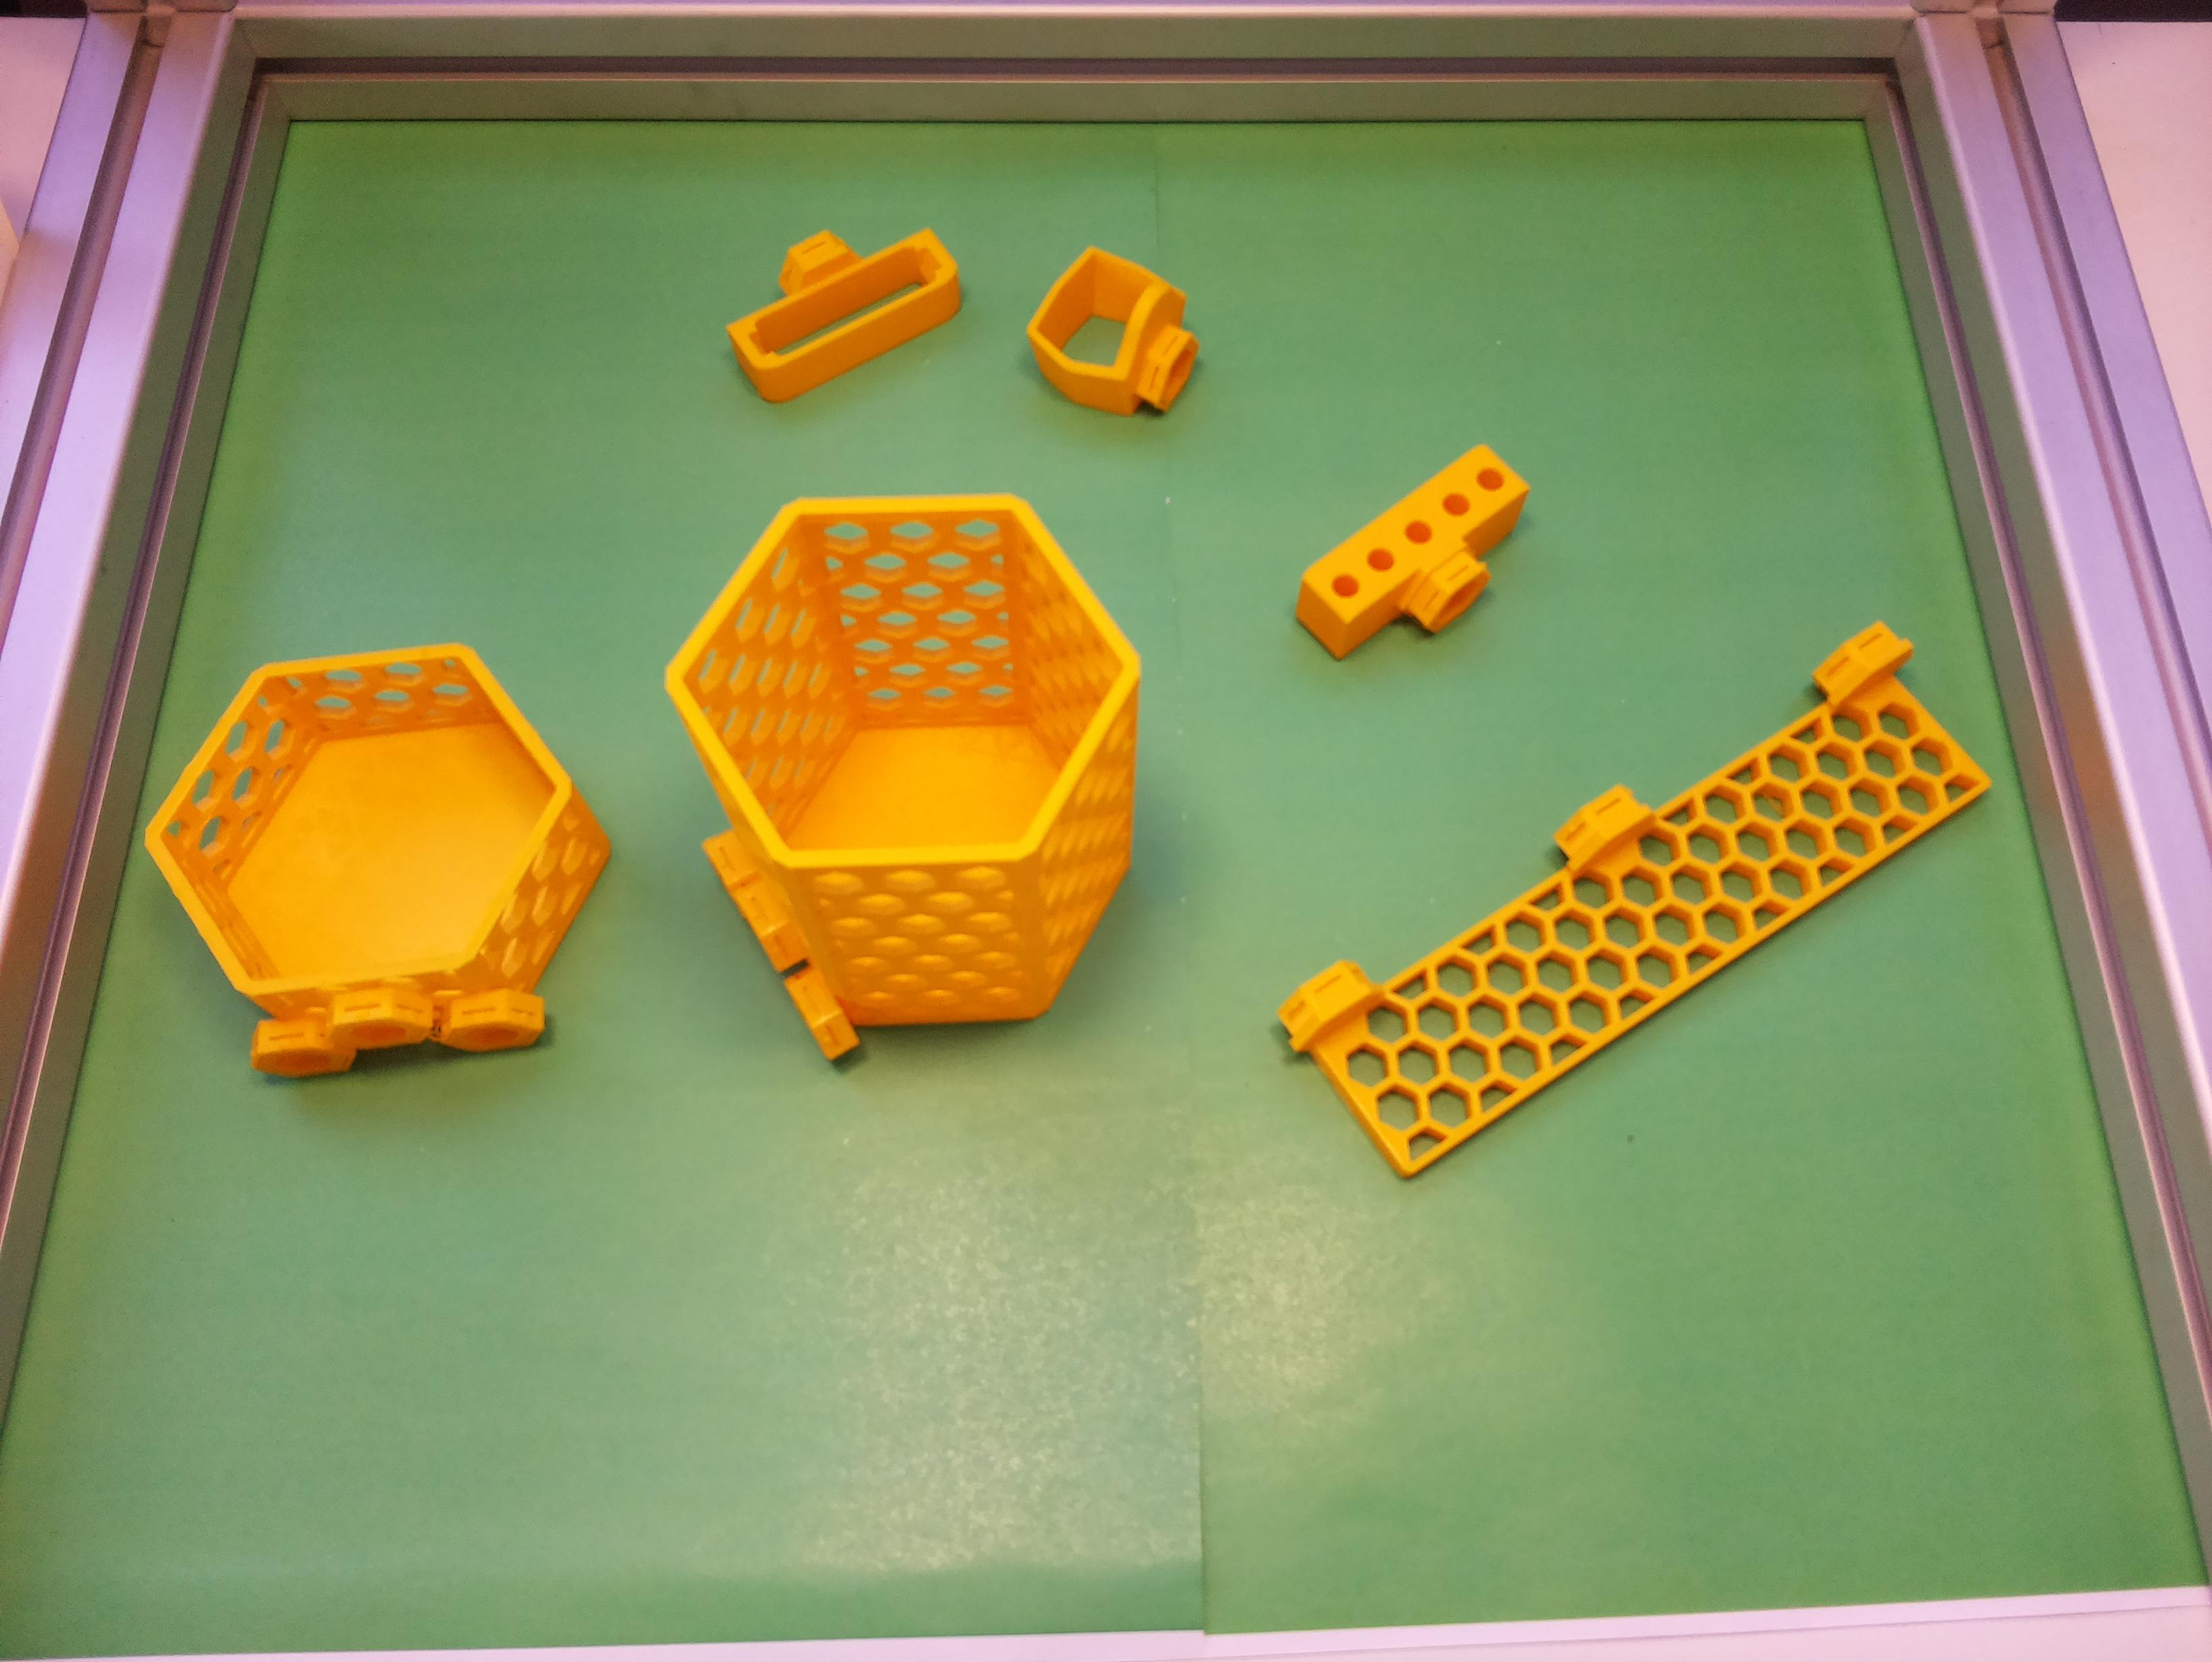bit_holder: (1278, 429, 1566, 695)
bottle_holder: (126, 623, 634, 1091)
cup_holder: (635, 438, 1206, 1077)
cutter_holder: (704, 185, 976, 412)
scissor_holder: (1007, 234, 1222, 440)
tool_holder: (1266, 597, 2004, 1194)
